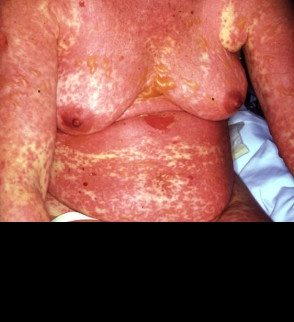SJS-TEN: (0, 0, 293, 229)
